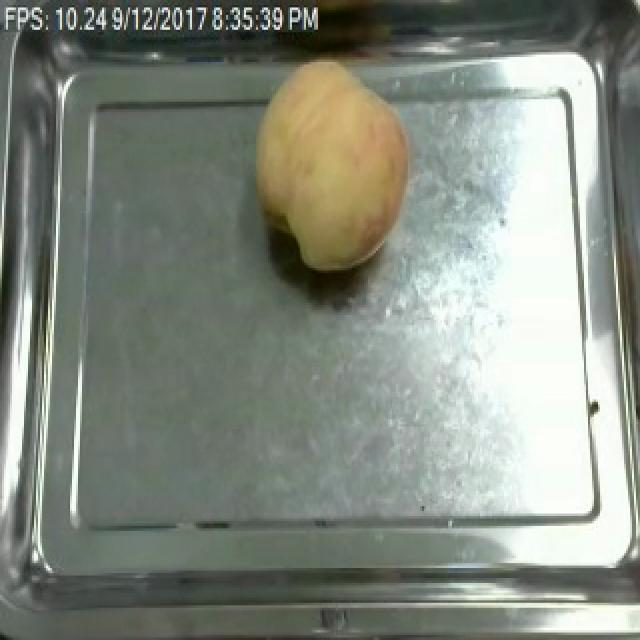Fruit: (244, 50, 420, 278)
